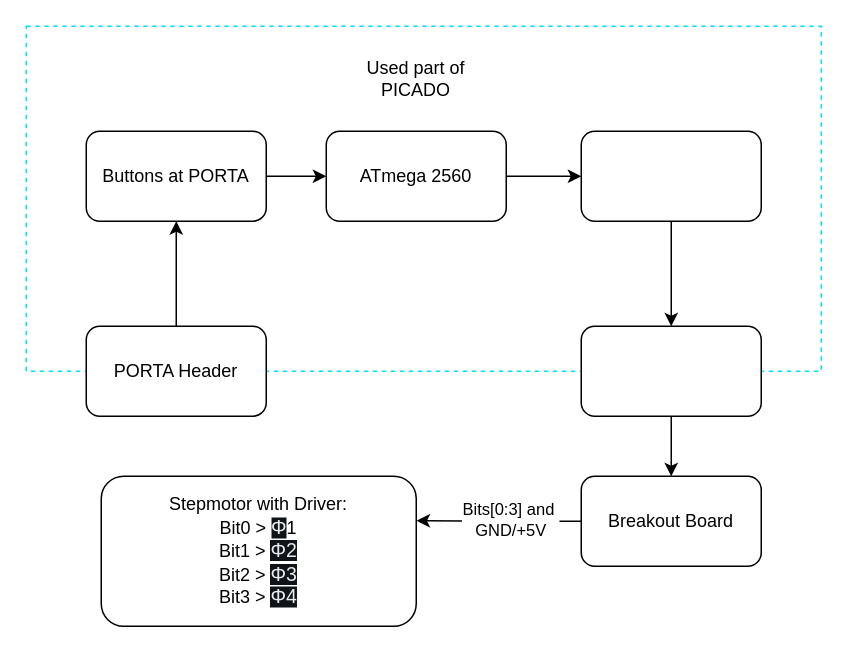
This 848x653 diagram has some shape labels left out. The shapes that lost their labels are listed below. From the top down, each one's centre as x and y in pixels, then its label:
At pixel 670 175: "Leds at PORTC".
At pixel 670 370: "PORTC Header".
